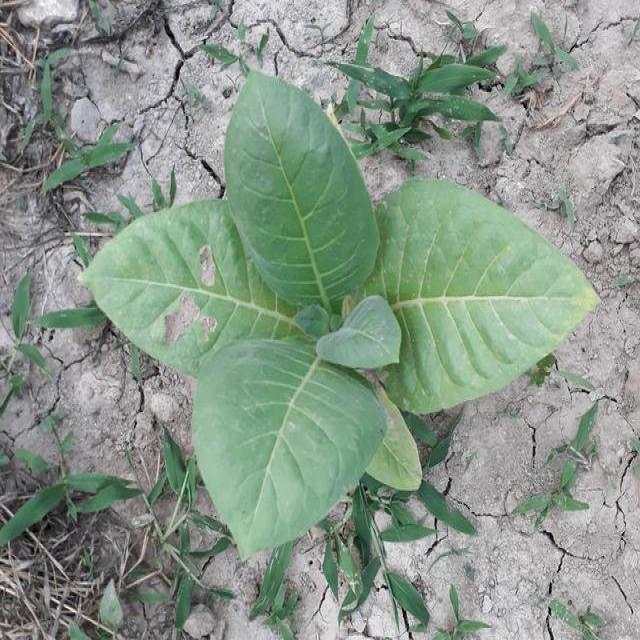crop: (81, 92, 599, 553)
